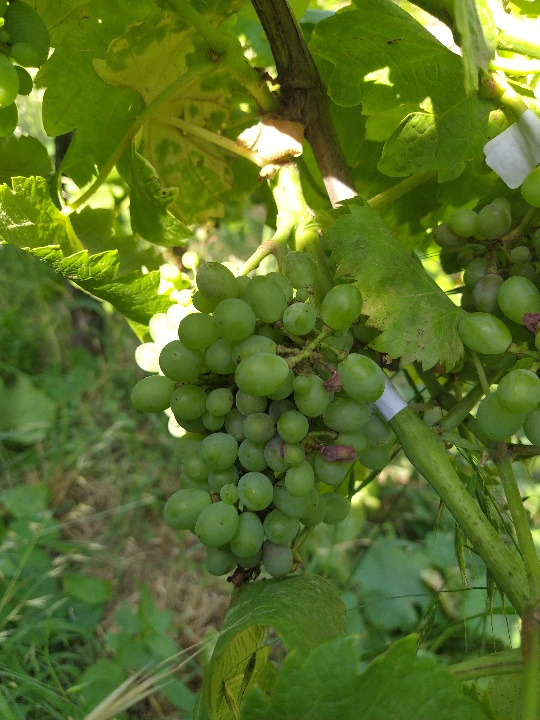grape: (127, 248, 391, 585)
